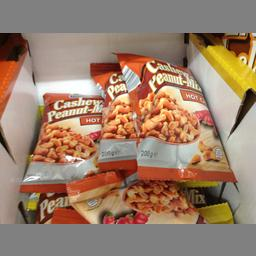nuts: (114, 50, 236, 180), (21, 92, 104, 188), (88, 59, 135, 168)
